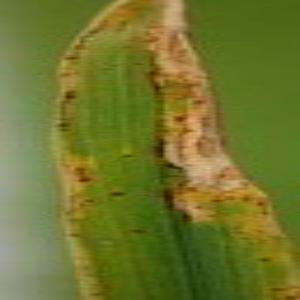2 BacterialBlight: (49, 6, 234, 299)
